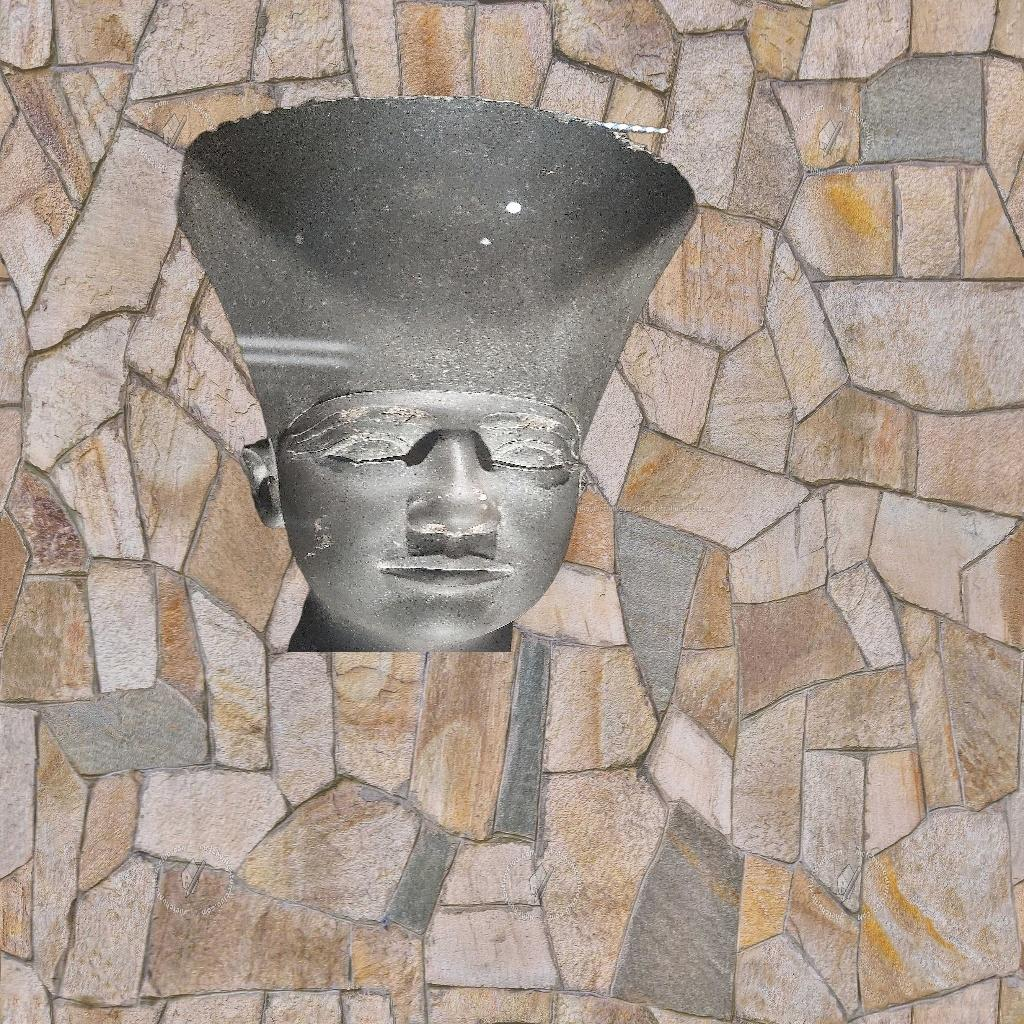Head of Userkaf: (169, 90, 700, 652)
